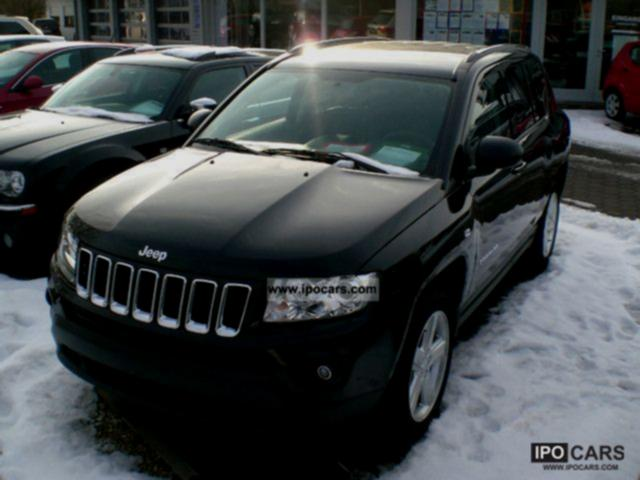jeep: (128, 238, 179, 281)
